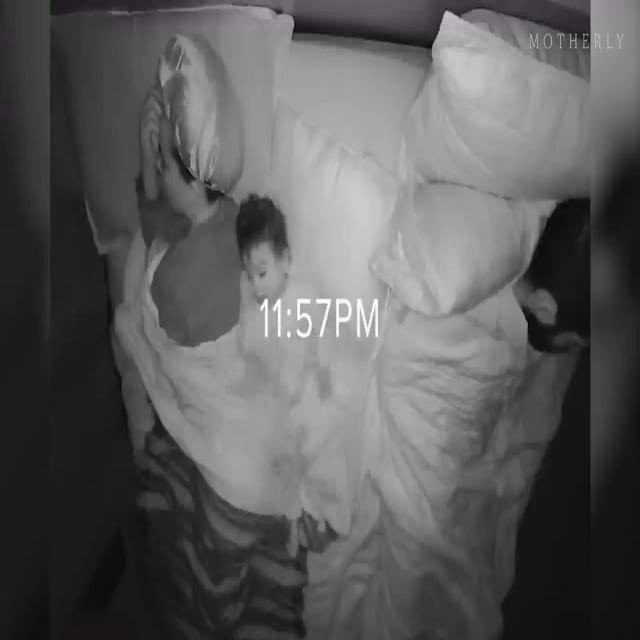baby: (236, 195, 345, 567)
